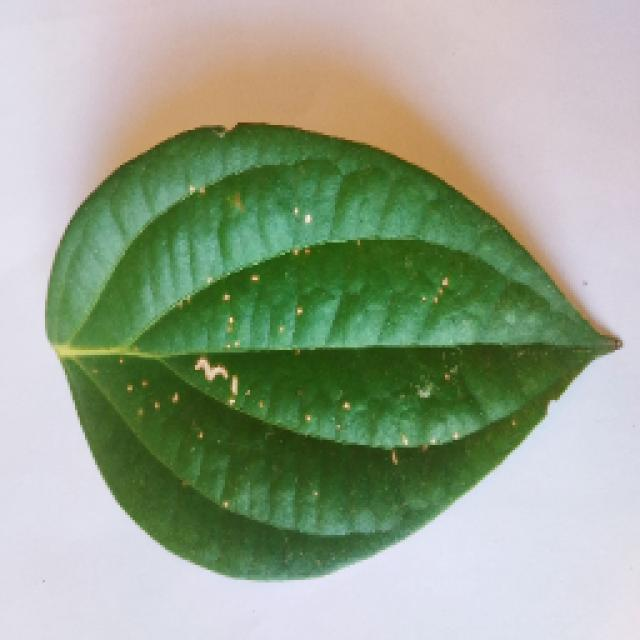pollu-disease: (38, 148, 612, 600)
